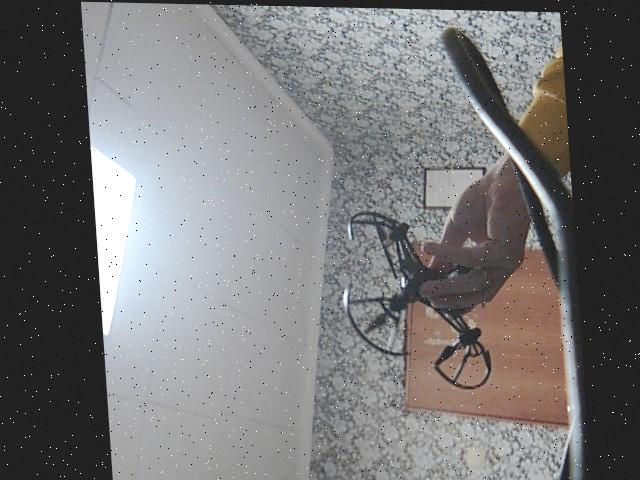drone: (323, 200, 513, 394)
